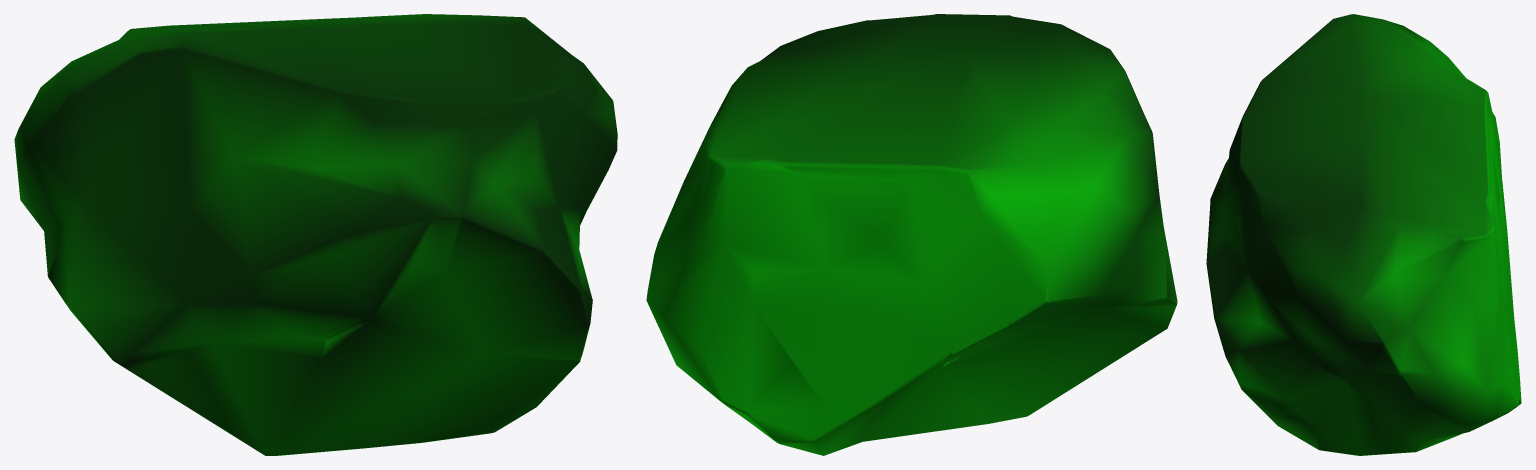
File: boulder-d.glb
3 renders of one model, left to right at view 1: azimuth 30°, elevation 25°; view 2: azimuth 150°, elevation 25°; view 3: azimuth 270°, elevation 25°, orthographic. The views are drawn at different scales.
Visible parts, largest first — view 1: boulder-d; view 2: boulder-d; view 3: boulder-d.
Boxes of the visible parts, x1,y1,x2,y2 form: boulder-d: (14,14,617,455); boulder-d: (646,14,1177,455); boulder-d: (1206,14,1521,455).
Size of the model in its own units: 2.68 by 2.05 by 1.85.
